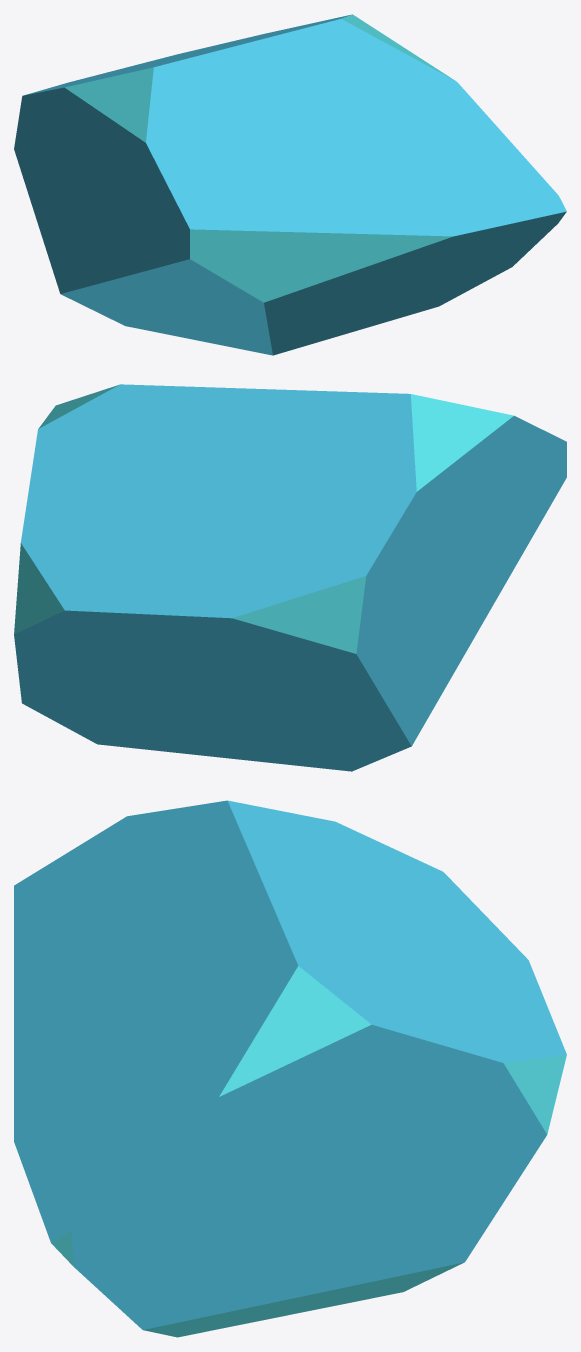
File: Iron2.fbx
The picture shows the model from 3 angles, top to bottom: view 1: azimuth 30°, elevation 25°; view 2: azimuth 150°, elevation 25°; view 3: azimuth 270°, elevation 25°; orthographic projection. The views are drawn at different scales.
Parts seen in each view (by area): view 1: Cube; view 2: Cube; view 3: Cube.
Part boxes in pixels (<box>): Cube: <box>14,14,566,355</box>; Cube: <box>14,384,566,771</box>; Cube: <box>14,800,566,1337</box>.
Bounding box in the file's own units: 2 × 1.41 × 1.91.
